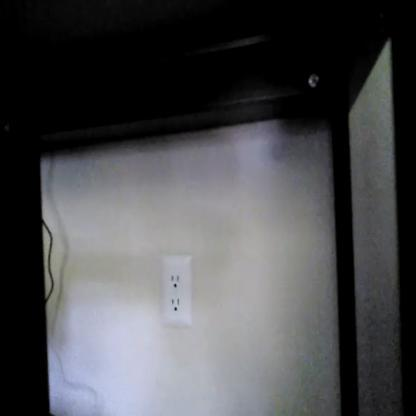OUTLET: (160, 254, 193, 328)
